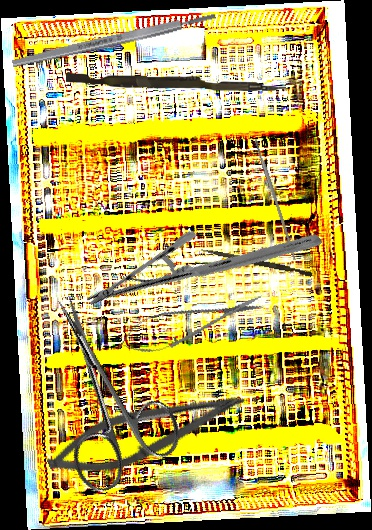Iris Scissors: (10, 276, 191, 499)
Micro Scissor: (40, 367, 251, 494), (112, 282, 271, 364)
Needle Holder: (85, 152, 323, 388)
Pusher: (65, 73, 287, 92), (200, 248, 313, 277)
Scalpel Handle: (11, 10, 217, 70), (253, 138, 298, 261)
